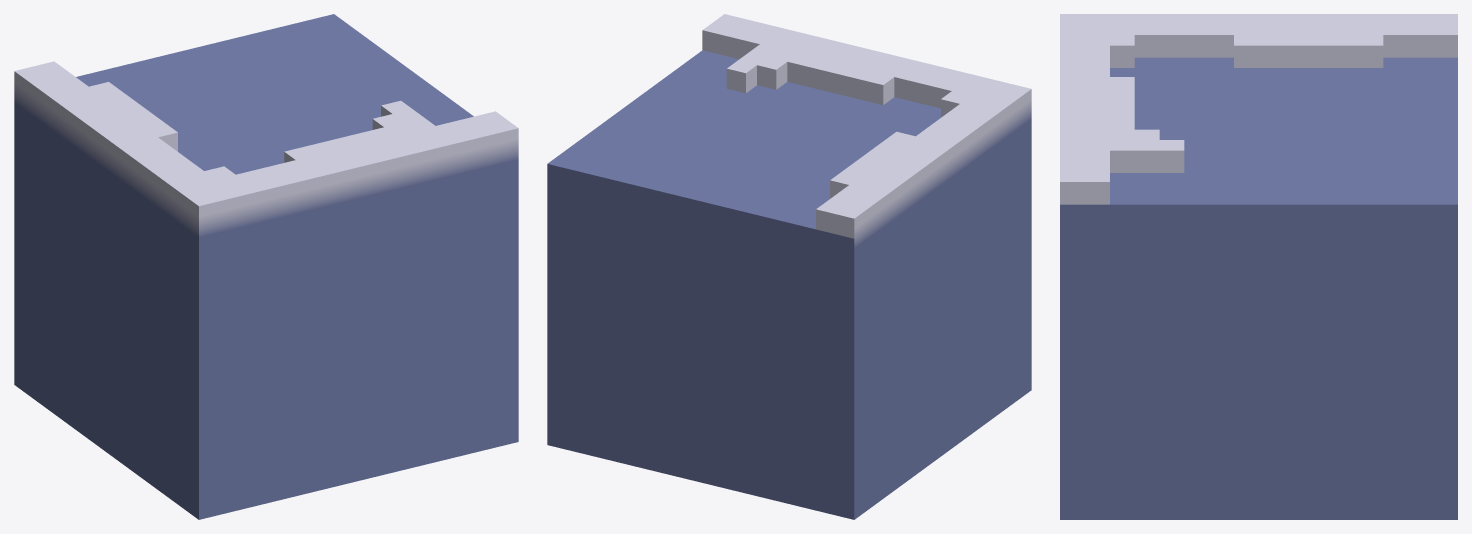
Rendered from GroundCorner_2.fbx.
3 views of the same model, side by side, from view 1: azimuth 30°, elevation 25°; view 2: azimuth 150°, elevation 25°; view 3: azimuth 270°, elevation 25° (orthographic). The views are drawn at different scales.
Parts seen in each view (by area): view 1: GroundCorner_2; view 2: GroundCorner_2; view 3: GroundCorner_2.
Boxes of the visible parts, <box> form: GroundCorner_2: <box>14,14,518,519</box>; GroundCorner_2: <box>547,14,1031,519</box>; GroundCorner_2: <box>1060,14,1457,519</box>.
Size of the model in its own units: 16 by 15 by 16.
Materials: 1 (1 with a texture image).
